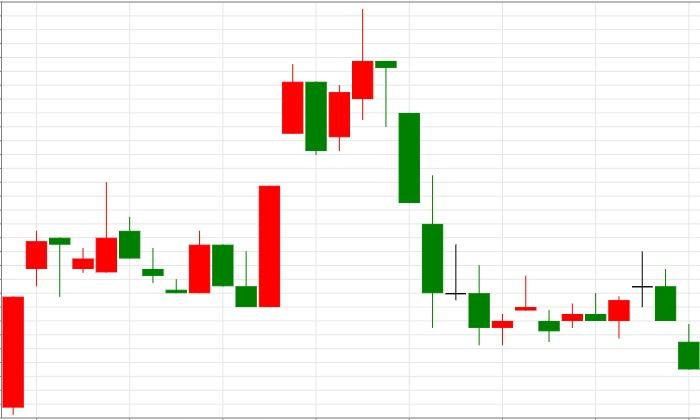bullish_engulfing_rise: (119, 184, 281, 307)
three_black_crows_fall: (282, 8, 443, 328)
